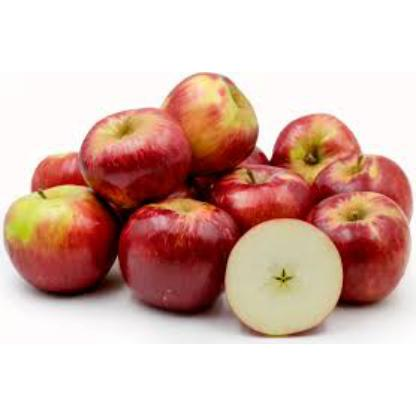apple: (119, 197, 235, 307), (156, 70, 260, 174), (9, 192, 115, 294), (85, 110, 191, 208), (316, 194, 408, 298), (214, 156, 306, 232), (266, 110, 352, 186), (312, 147, 408, 215), (25, 141, 107, 202)
damaged_apple: (227, 219, 343, 329)
